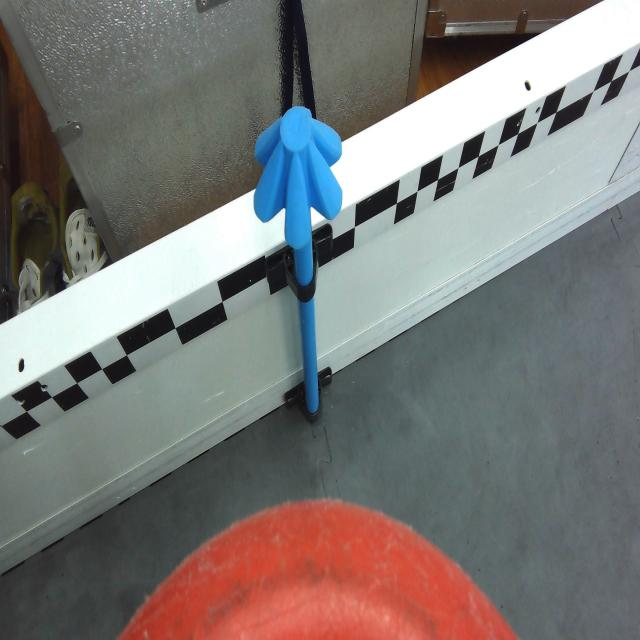zblue-Stake-Head: (254, 107, 344, 246)
